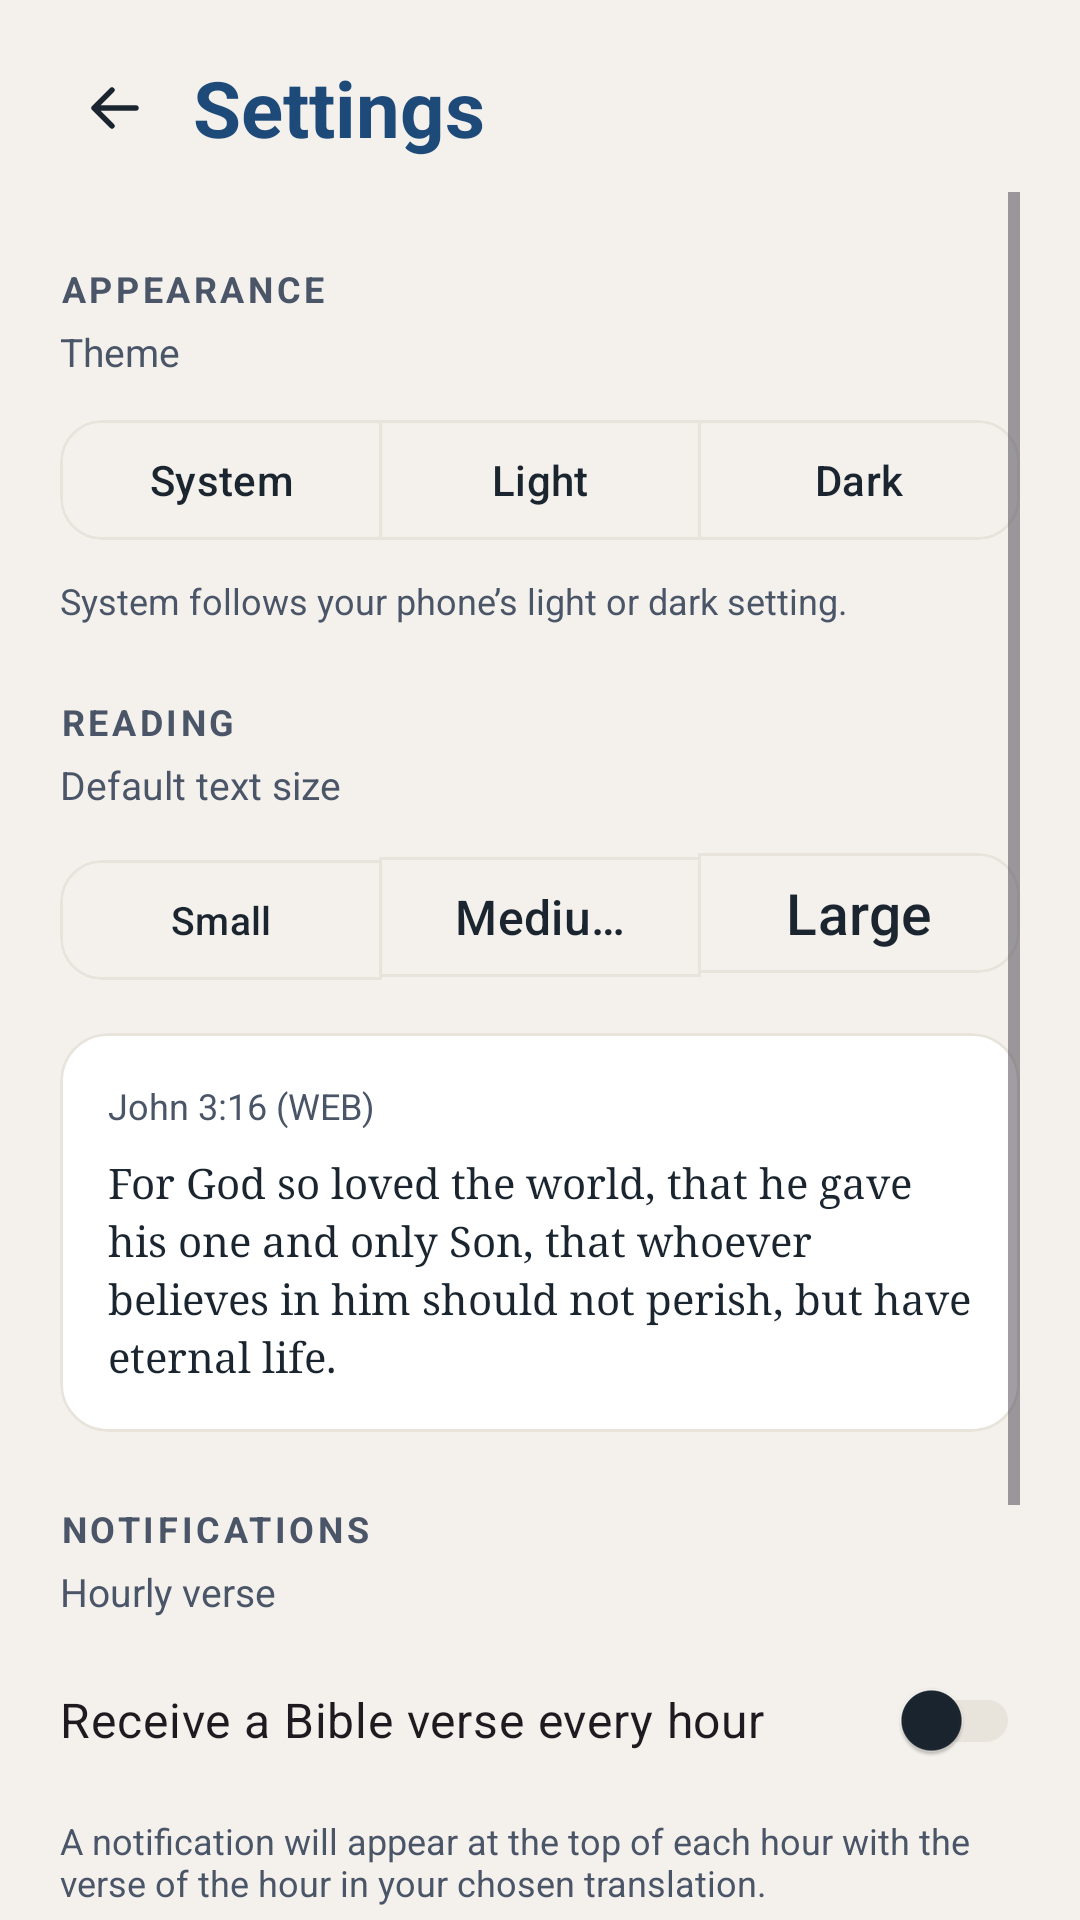

Where to tap for icons on this 1080 × 1920 app screen, as (x=x, y=y):
Back: (x=115, y=108)
